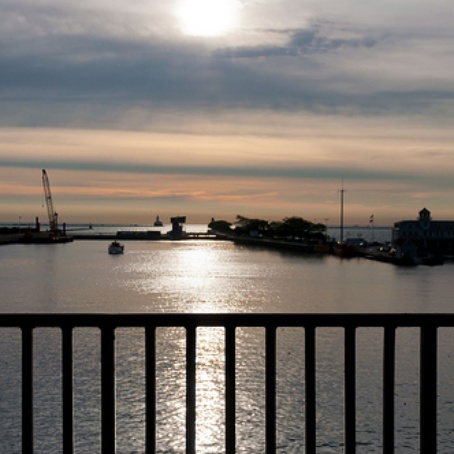boat: (106, 240, 131, 261)
sea: (4, 243, 454, 454)
sky: (1, 1, 447, 206)
sun: (165, 1, 245, 44)
